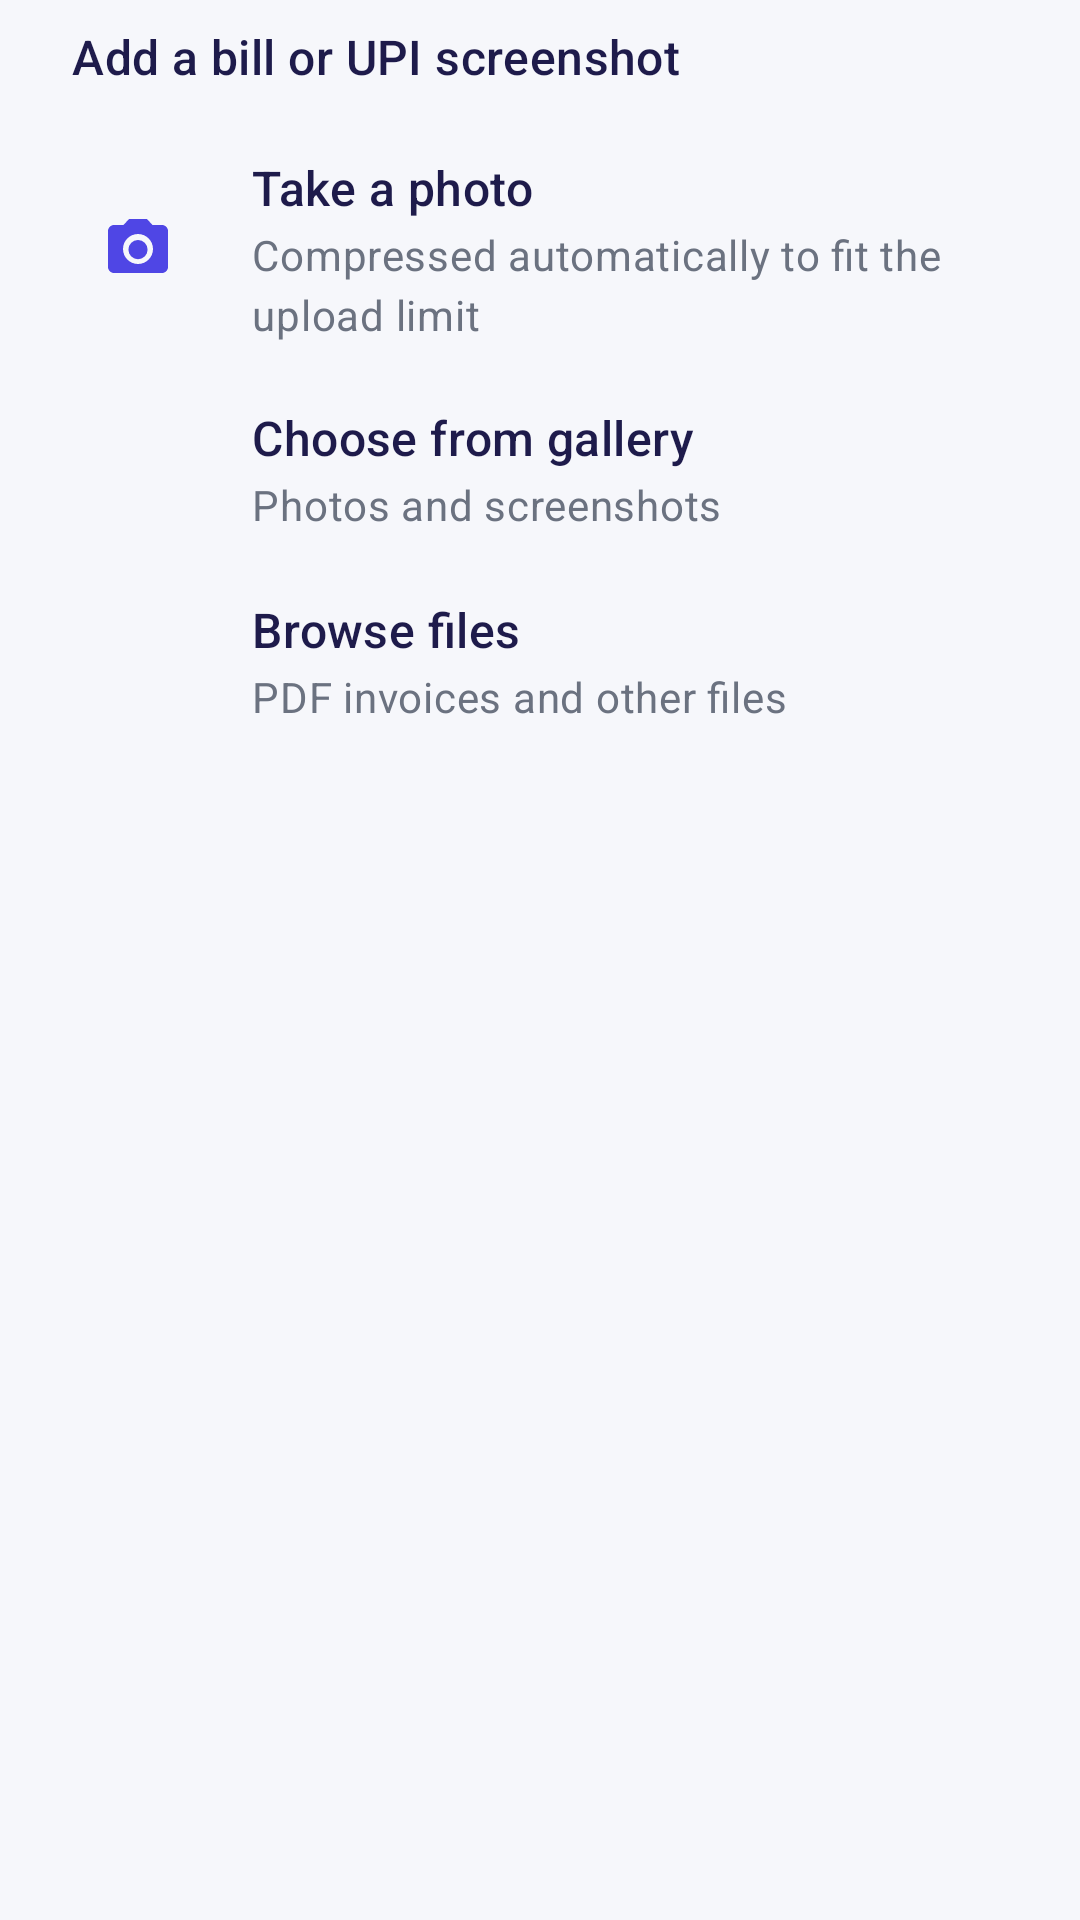

Icon bounding boxes for this 1080px×1920px phone screenshot, format box=[x1, y1, x2, y2]:
camera: box=[108, 219, 168, 273]
